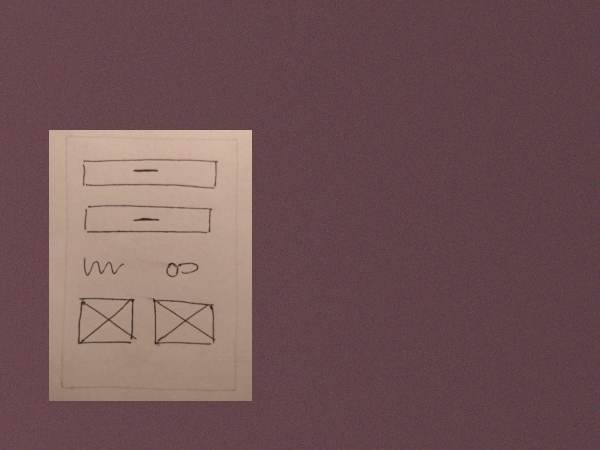button: (78, 156, 221, 192), (82, 202, 217, 238)
image: (149, 296, 222, 351), (73, 291, 141, 349)
switch: (157, 257, 205, 281)
text: (81, 252, 126, 281)
